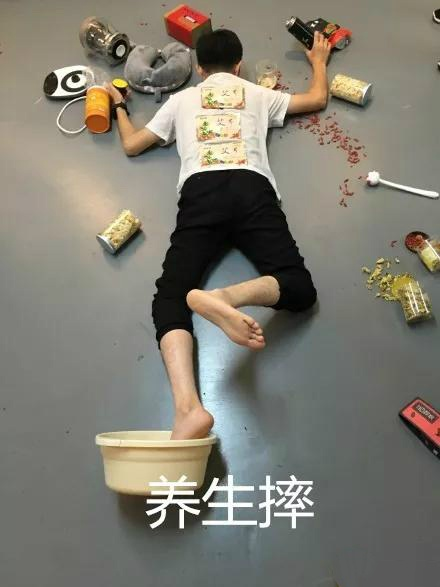falling: (83, 0, 364, 465)
